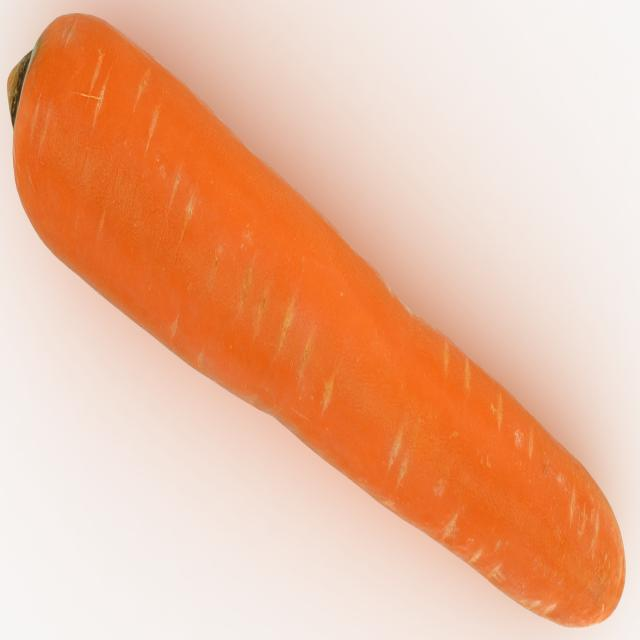Carrot: (10, 11, 621, 634)
